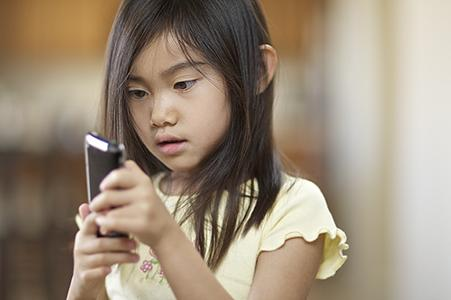person: (66, 2, 348, 300)
